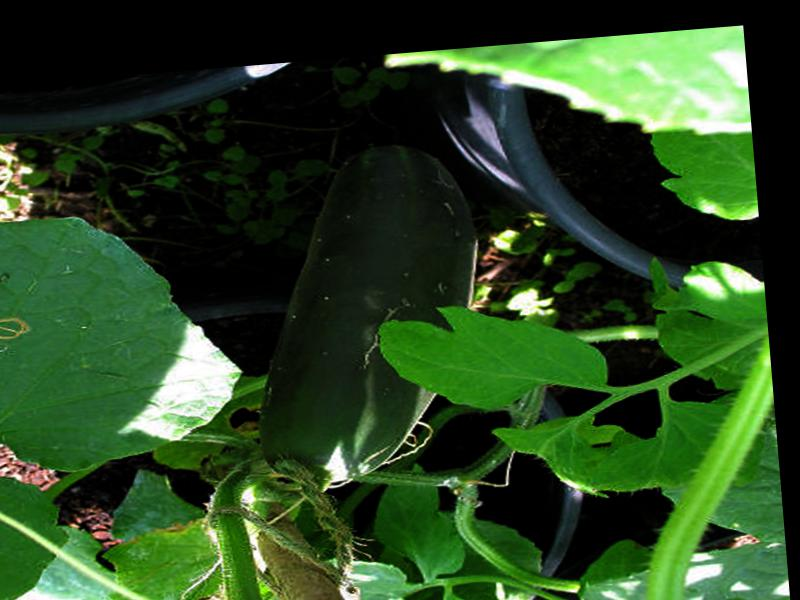Cucumber: (235, 139, 494, 490)
